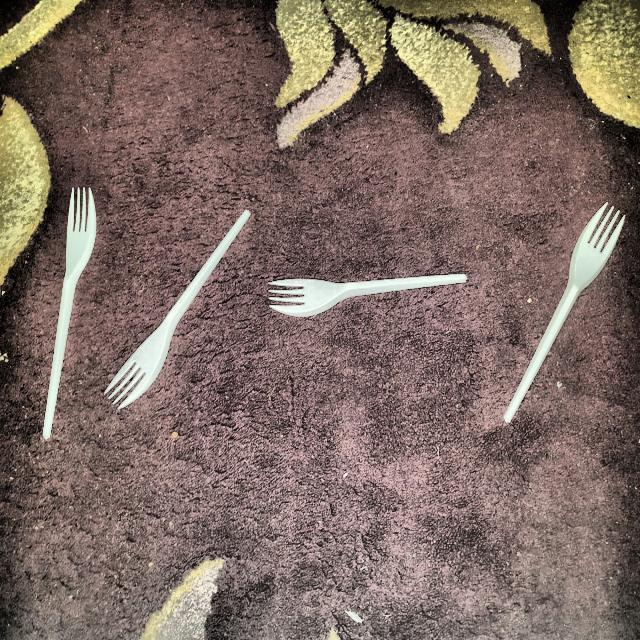plastic utensil: (106, 195, 252, 417), (498, 199, 632, 434), (31, 183, 101, 448), (266, 264, 476, 322)
